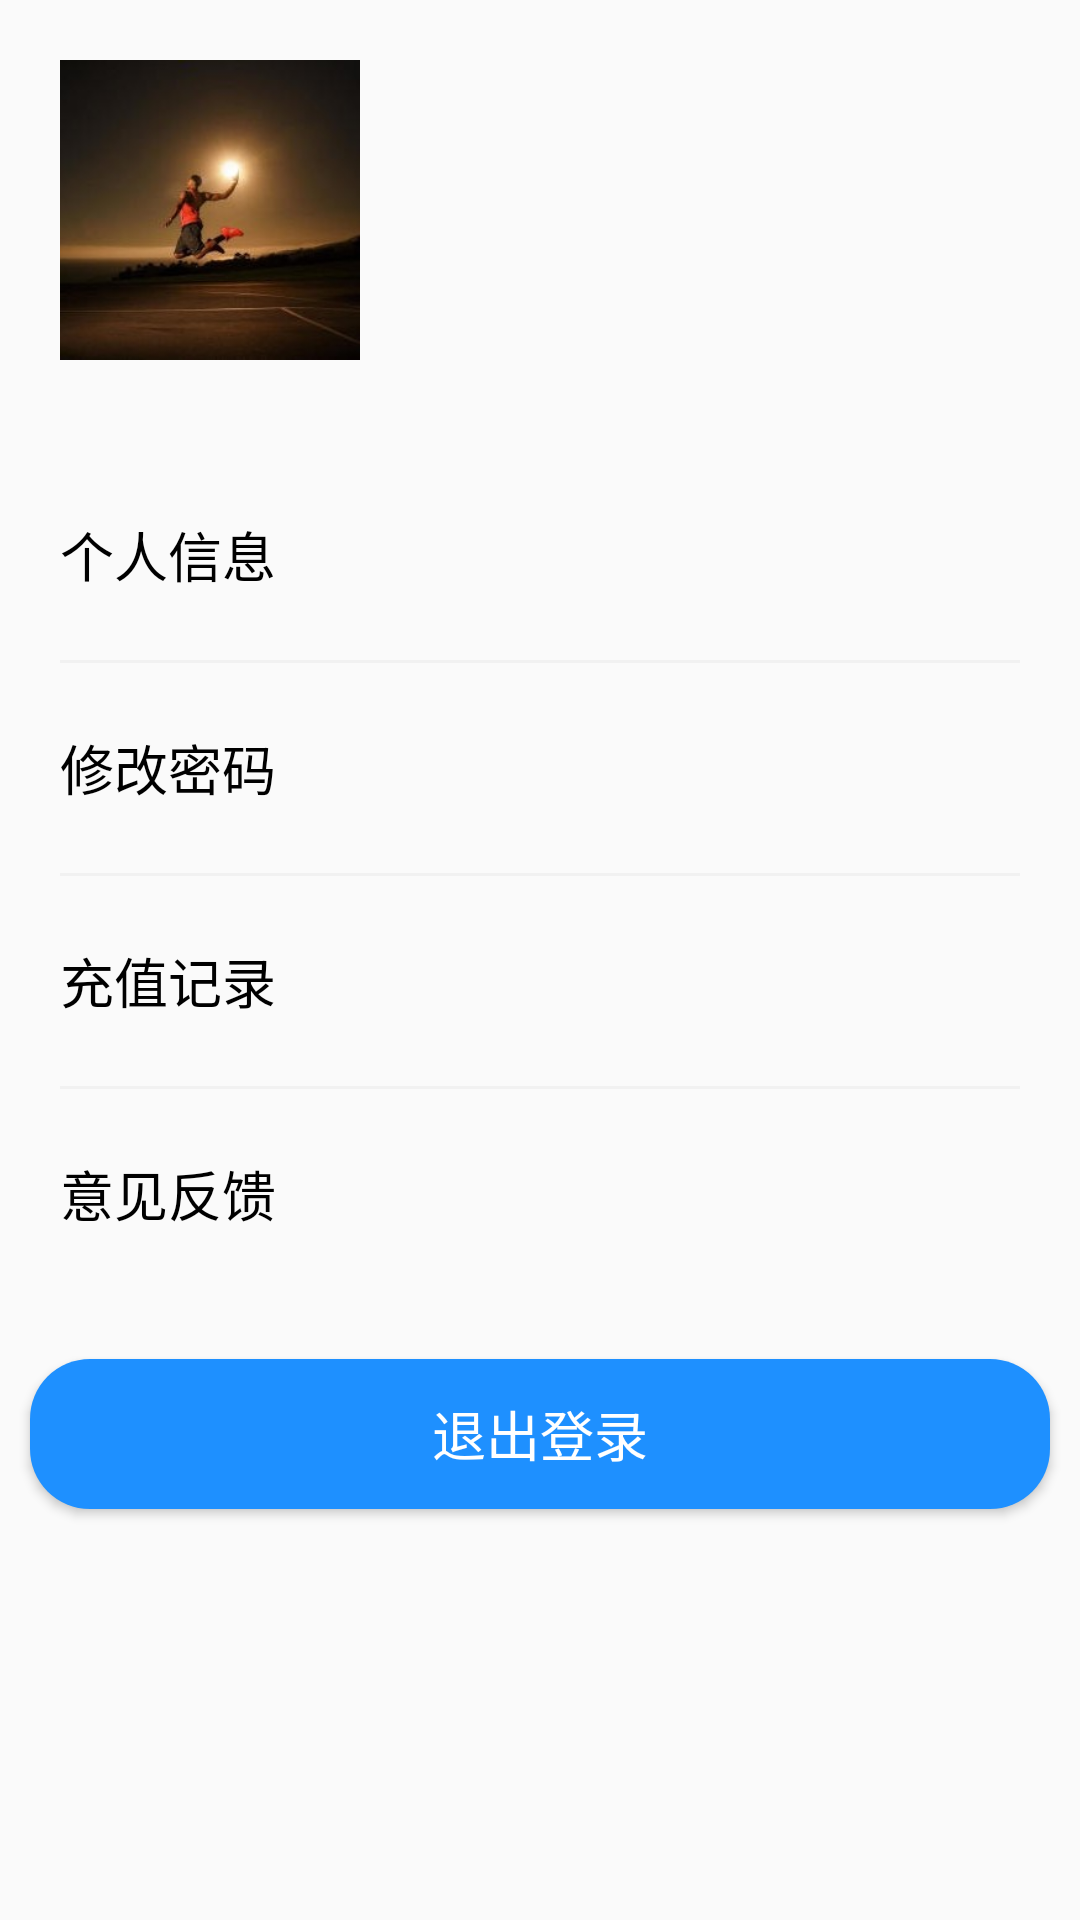

Screen size 1080 × 1920. Icon name, then its center in pixels as (x,y):
touxiang: (210,210)
